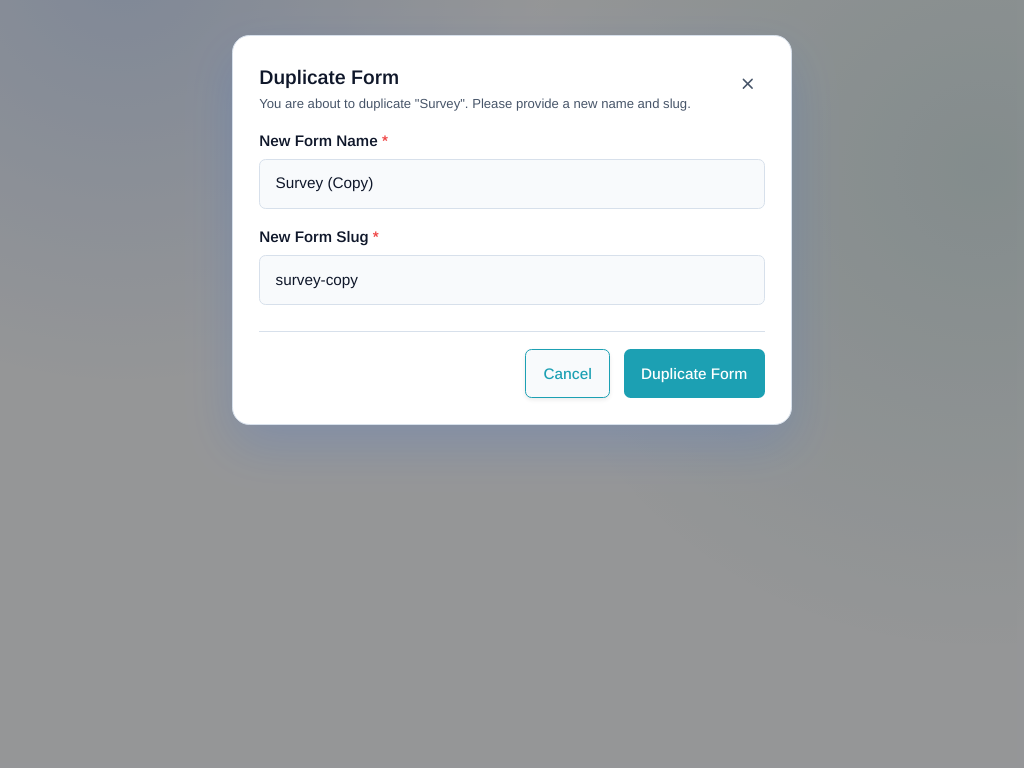
Test: DuplicateEntityDialog › auto-generates slug when title is updated
Replace the text in the field labelled "New Form Name *" with "Annual Volunteer Survey 2026" at (512, 184), box x1=259 y1=158 x2=765 y2=209
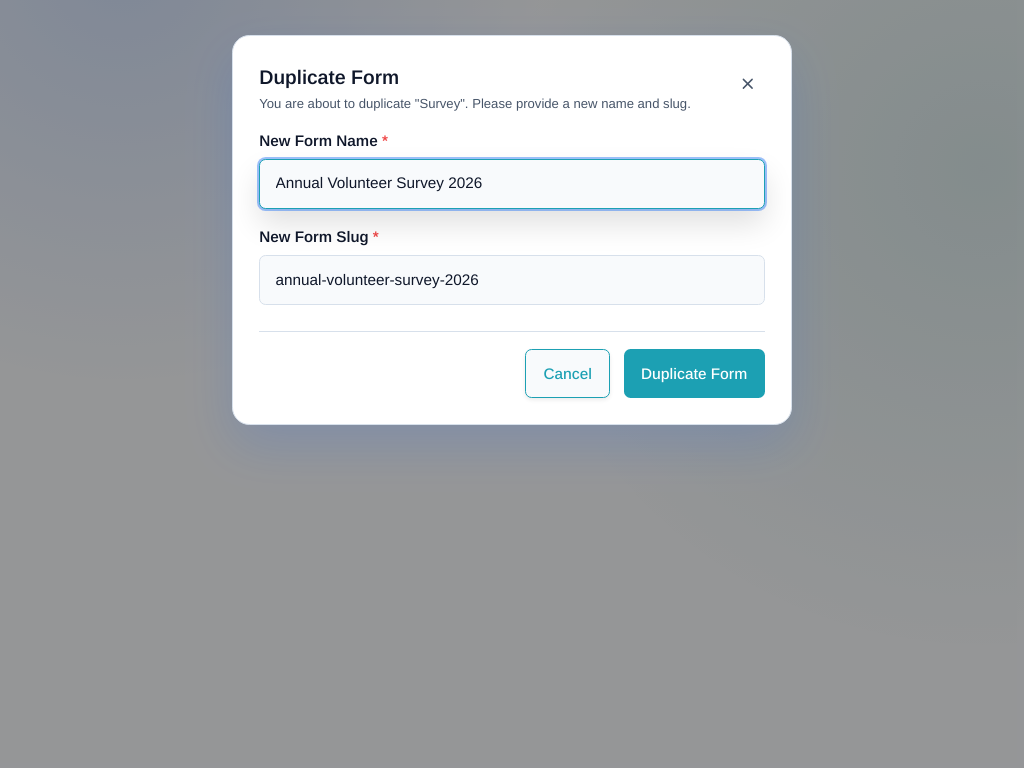
Now the field labelled "New Form Slug *" holds "annual-volunteer-survey-2026", box x1=259 y1=255 x2=765 y2=305
